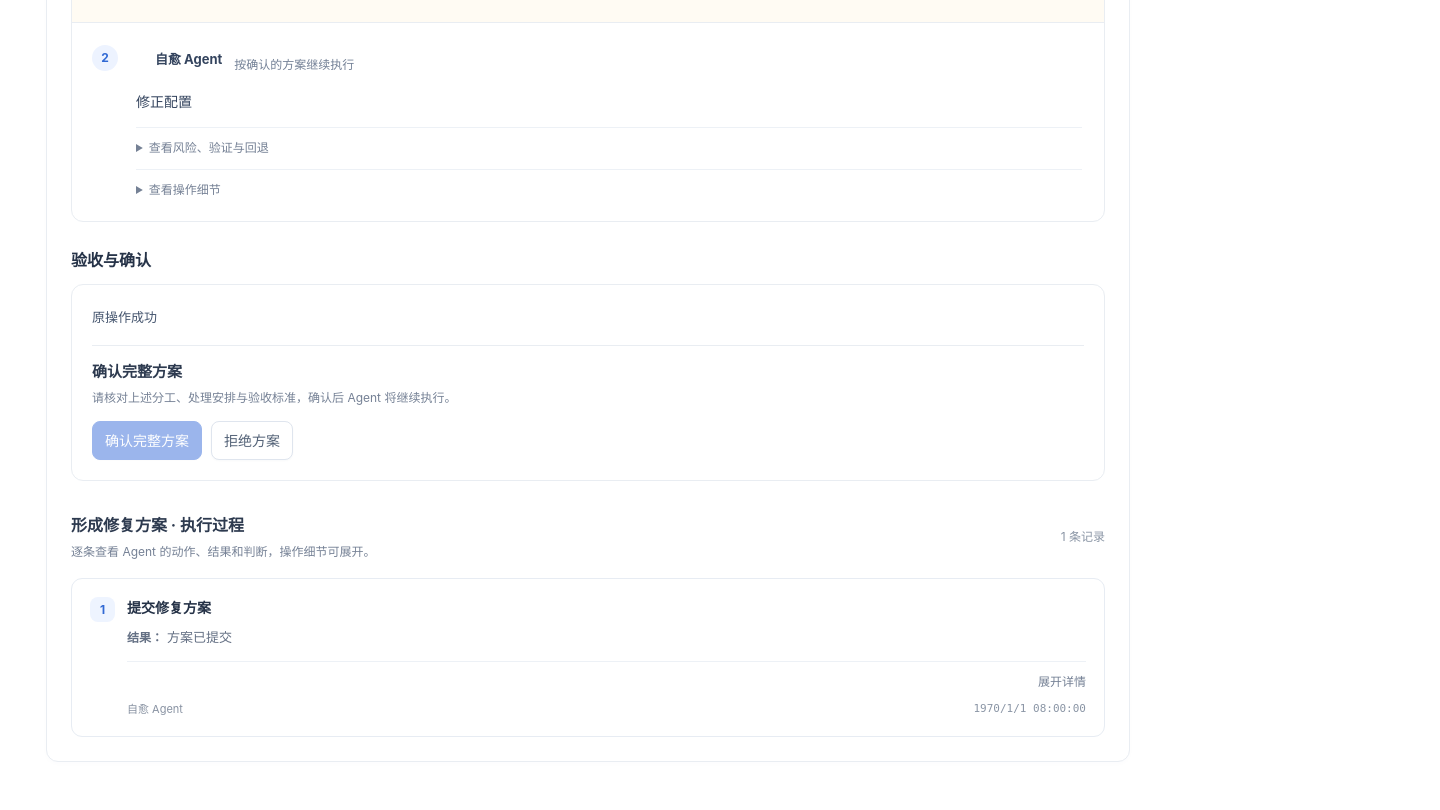
Test: preserves raw evidence including angle brackets and Markdown punctuation
(page scrolled)
Click the text "展开详情" at (1062, 682), box 1038,674 -> 1086,689
(page scrolled)
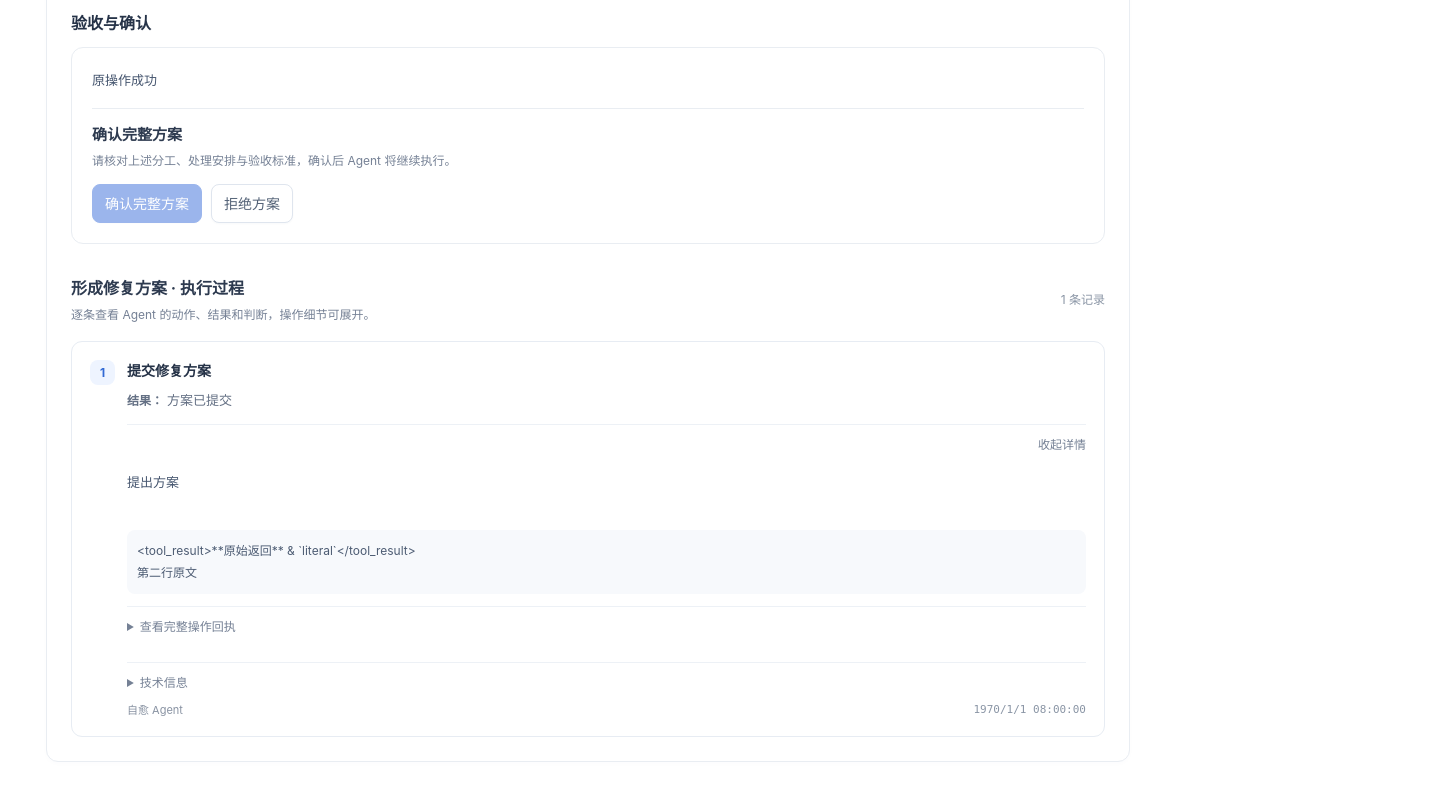
Expected: the text "<tool_result>**原始返回** & `literal`</tool_result> 第二行原文" is shown, 127,530 -> 1086,594
